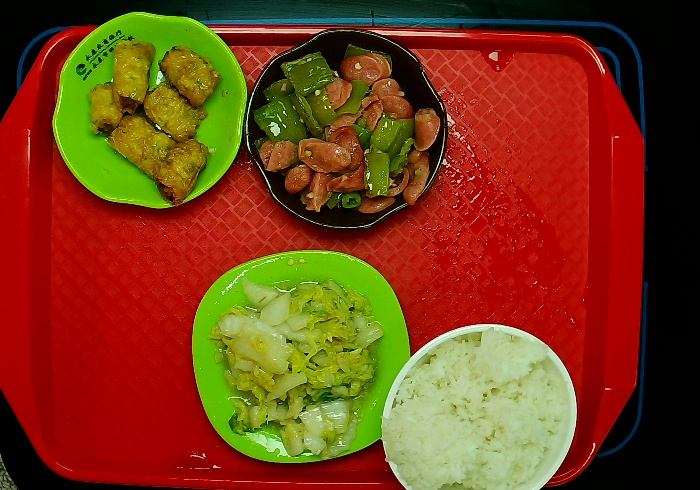YKMZ-Fan_Wan: (375, 318, 582, 490)
YKMZ-Ka_Fei_Ao_Bian_Wan: (239, 26, 452, 237)
YKMZ-Lv_Se_Ao_Bian_Wan: (48, 8, 251, 212)
YKMZ-Lv_Se_Fang_Die: (187, 246, 414, 467)
